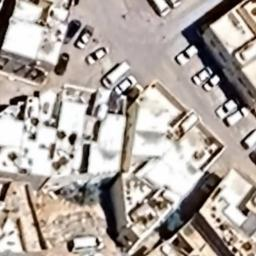sedan: (82, 44, 114, 66), (174, 41, 200, 68), (114, 74, 140, 96), (76, 21, 94, 51), (200, 72, 225, 92)
truck: (97, 56, 131, 89), (213, 94, 241, 120), (225, 102, 250, 128)
unknown: (190, 62, 214, 89), (50, 50, 73, 78), (62, 18, 82, 45)
van: (67, 232, 107, 253)
